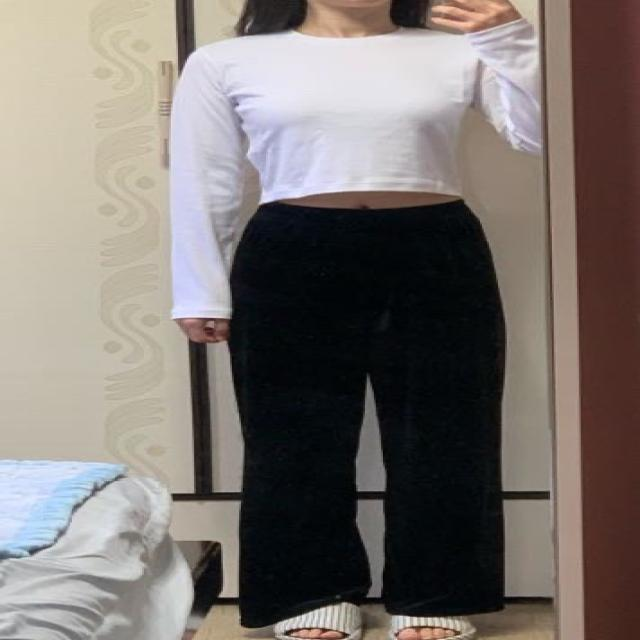denimpants: (231, 200, 512, 630)
longsleeve: (167, 26, 541, 317)
